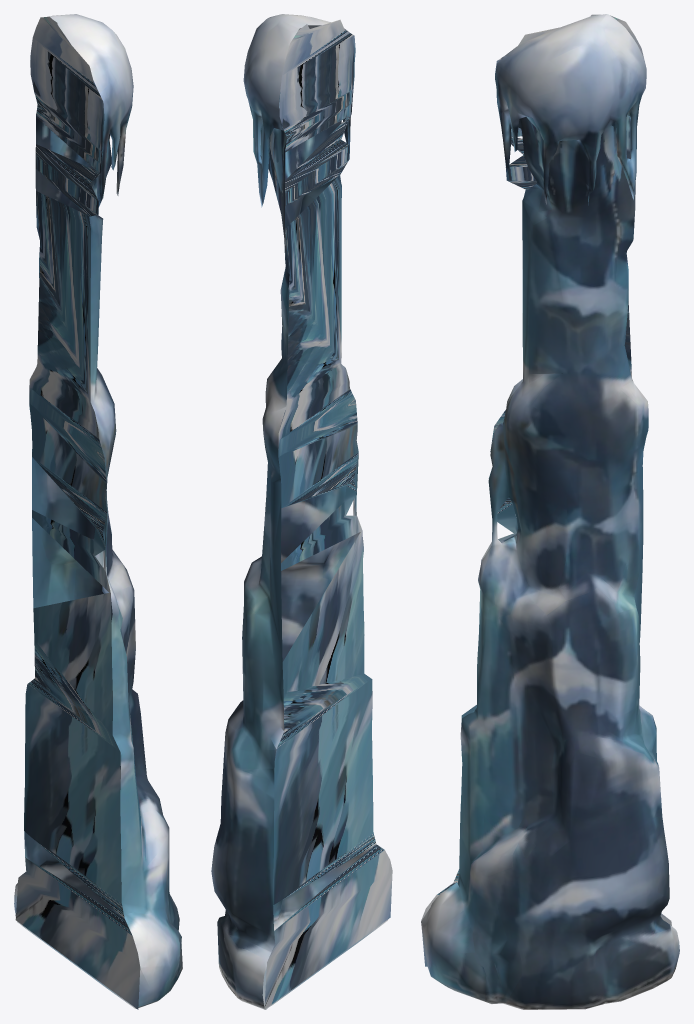
Rendered from SM_Tripo_FrostSeaRampartEndR.glb.
3 renders of one model, left to right at view 1: azimuth 30°, elevation 25°; view 2: azimuth 150°, elevation 25°; view 3: azimuth 270°, elevation 25°, orthographic. The views are drawn at different scales.
Parts seen in each view (by area): view 1: SM_Tripo_FrostSeaRampartEndR_LOD0; view 2: SM_Tripo_FrostSeaRampartEndR_LOD0; view 3: SM_Tripo_FrostSeaRampartEndR_LOD0.
Part boxes in pixels (left/top/right/bottom): SM_Tripo_FrostSeaRampartEndR_LOD0: left=14, top=14, right=182, bottom=1009; SM_Tripo_FrostSeaRampartEndR_LOD0: left=211, top=14, right=392, bottom=1009; SM_Tripo_FrostSeaRampartEndR_LOD0: left=421, top=14, right=679, bottom=1009.
Size of the model in its own units: 0.876 by 8.78 by 2.16.
Materials: 1 (1 with a texture image).
